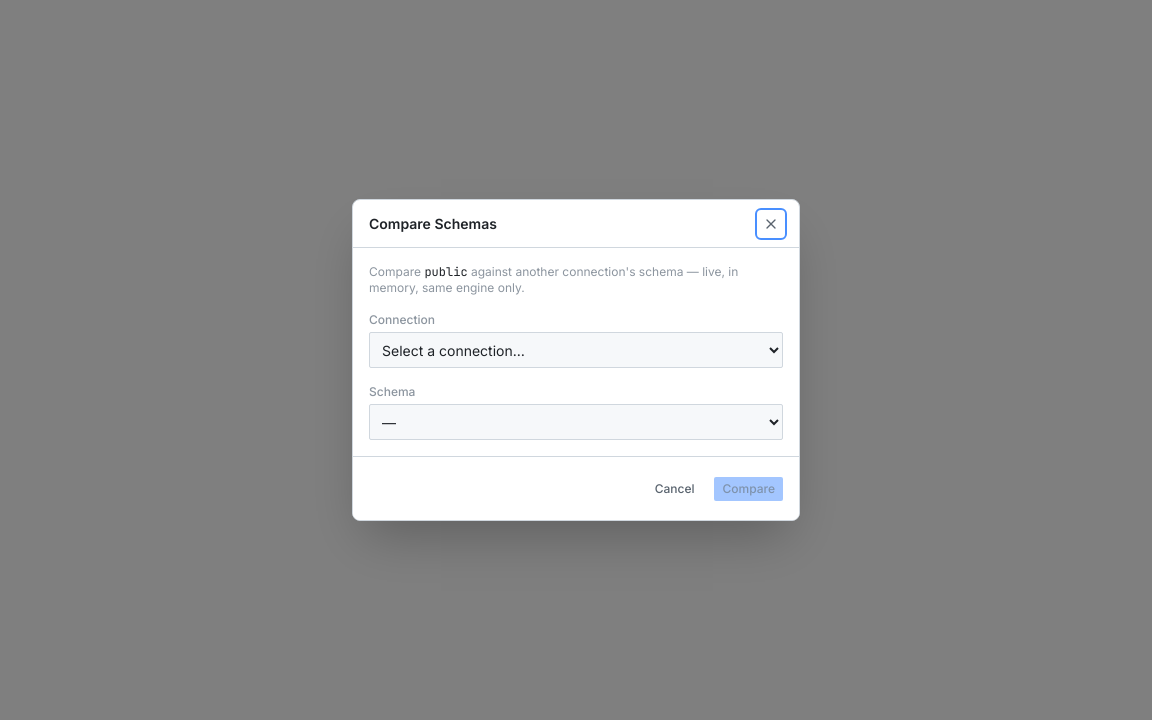
it: CompareSchemaModal › disables Compare until a connection and schema are picked
This screenshot has width=1152, height=720.
Expected: the button "Compare" is disabled, [714, 476, 783, 500]
Select "Prod" in the dropdown named "Connection to compare against" at {"x": 576, "y": 350}, box [369, 332, 783, 368]
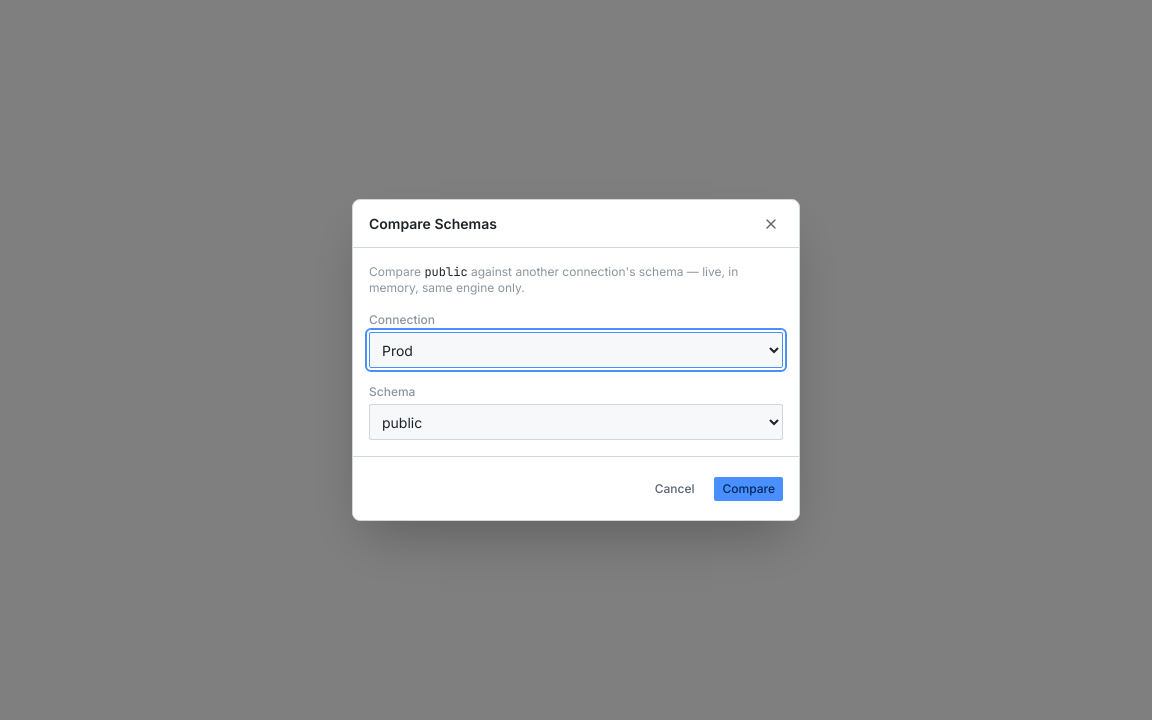
Now the button "Compare" is enabled, box [714, 476, 783, 500]
